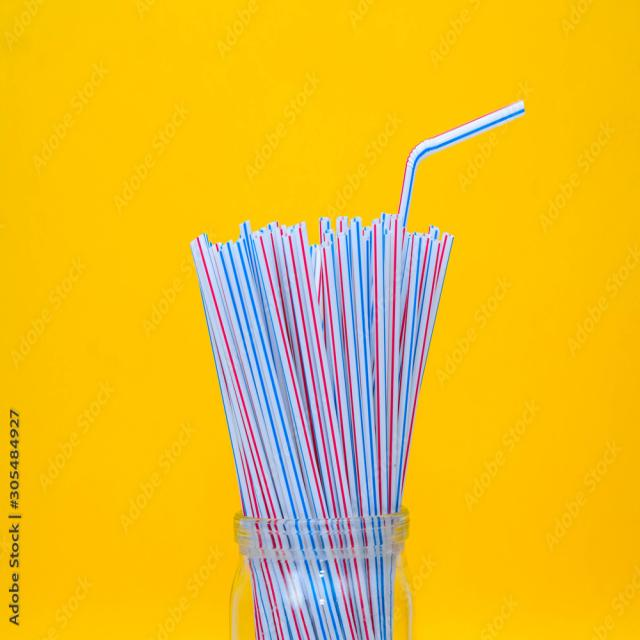plastic: (376, 75, 540, 206)
